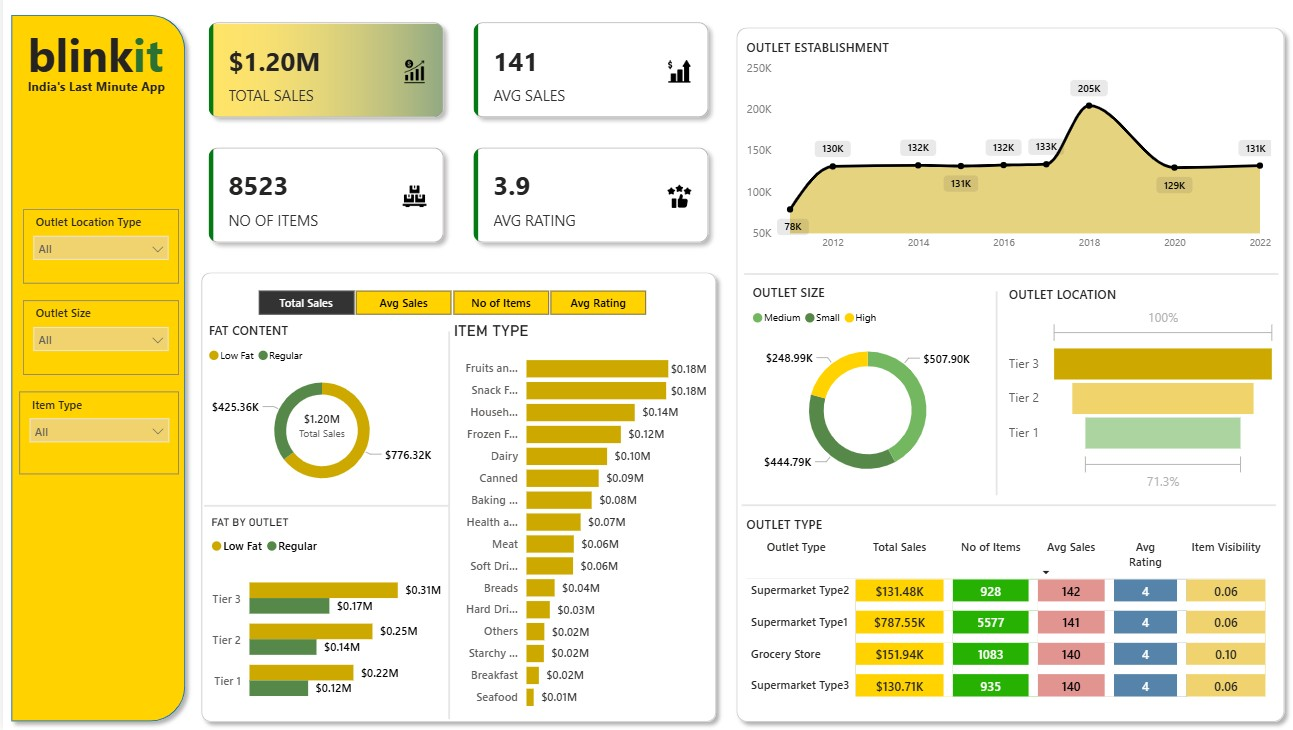

The page's visual inventory and layout, read from the dashboard file:
{"tool":"powerbi","page":{"name":"Page 1","canvas":[1400,800],"ordinal":0},"visuals":[{"type":"shape","box":[0,24.3,204.3,775.7],"z":0},{"type":"textbox","box":[21.4,37.1,171.4,75.7],"z":1000},{"type":"textbox","box":[21.4,95.7,182.9,32.9],"z":2000},{"type":"cardVisual","fields":{"Data":["BlinkIT Grocery Data.Total Sales","BlinkIT Grocery Data.Avg Sales","BlinkIT Grocery Data.No of Items","BlinkIT Grocery Data.Avg Rating"]},"box":[204.3,24.3,570,270],"z":3000},{"type":"shape","box":[204.3,300,570,500],"z":4000},{"type":"donutChart","title":"FAT CONTENT","fields":{"Y":["BlinkIT Grocery Data.Total Sales"],"Category":["BlinkIT Grocery Data.Item Fat Content"]},"box":[215.7,361.4,252.9,188.6],"z":5000},{"type":"slicer","fields":{"Values":["Matrics.Matrics"]},"box":[248.6,321.4,465.7,40],"z":6000},{"type":"cardVisual","fields":{"Data":["BlinkIT Grocery Data.Total Sales"]},"box":[260,412.9,164.3,121.4],"z":7000},{"type":"clusteredBarChart","title":"FAT BY OUTLET","fields":{"Y":["BlinkIT Grocery Data.Total Sales"],"Category":["BlinkIT Grocery Data.Outlet Location Type"],"Series":["BlinkIT Grocery Data.Item Fat Content"]},"box":[218.6,570,257.1,218.6],"z":8000},{"type":"shape","box":[215.7,550,262.9,20],"z":9000},{"type":"shape","box":[468.6,372.9,18.6,415.7],"z":10000},{"type":"clusteredBarChart","title":"ITEM TYPE","fields":{"Y":["BlinkIT Grocery Data.Total Sales"],"Category":["BlinkIT Grocery Data.Item Type"]},"box":[478.6,361.4,281.4,427.1],"z":11000},{"type":"shape","box":[777.1,37.1,605.7,762.9],"z":12000},{"type":"lineChart","title":"OUTLET ESTABLISHMENT","fields":{"Y":["Sum(BlinkIT Grocery Data.Sales)"],"Category":["BlinkIT Grocery Data.Outlet Establishment Year"]},"box":[792.9,58.6,572.9,235.7],"z":13000},{"type":"shape","box":[794.3,300,572.9,21.4],"z":14000},{"type":"donutChart","title":"OUTLET SIZE","fields":{"Y":["BlinkIT Grocery Data.Total Sales"],"Category":["BlinkIT Grocery Data.Outlet Size"]},"box":[798.6,321.4,257.1,225.7],"z":15000},{"type":"funnel","title":"OUTLET LOCATION","fields":{"Category":["BlinkIT Grocery Data.Outlet Location Type"],"Y":["Sum(BlinkIT Grocery Data.Sales)"]},"box":[1074.3,323.7,297.1,225.7],"z":16000},{"type":"shape","box":[792.9,548.6,572.9,21.4],"z":17000},{"type":"shape","box":[1055.7,330,18.6,218.6],"z":18000},{"type":"pivotTable","title":"OUTLET TYPE","fields":{"Rows":["BlinkIT Grocery Data.Outlet Type"],"Values":["BlinkIT Grocery Data.Total Sales","BlinkIT Grocery Data.No of Items","BlinkIT Grocery Data.Avg Sales","BlinkIT Grocery Data.Avg Rating","Avg(BlinkIT Grocery Data.Item Visibility)"]},"box":[792.9,570,572.9,204.3],"z":19000},{"type":"slicer","fields":{"Values":["BlinkIT Grocery Data.Outlet Size"]},"box":[21.4,338.6,167.1,80],"z":20000},{"type":"slicer","fields":{"Values":["BlinkIT Grocery Data.Outlet Location Type"]},"box":[21.4,241.4,167.1,80],"z":21000},{"type":"slicer","fields":{"Values":["BlinkIT Grocery Data.Item Type"]},"box":[17.1,437.1,171.4,88.6],"z":22000}]}

Visuals, with their boxes in screenshot pixels (x1, y1, x2, y2), scaled from the page's 1400x800 canvas onto the 1293x730 screenshot:
shape: Rect(0, 22, 189, 729)
textbox: Rect(20, 34, 178, 103)
textbox: Rect(20, 87, 189, 117)
cardVisual - BlinkIT Grocery Data.Total Sales x BlinkIT Grocery Data.Avg Sales: Rect(189, 22, 715, 269)
shape: Rect(189, 274, 715, 729)
"FAT CONTENT" donutChart: Rect(199, 330, 433, 502)
slicer - Matrics.Matrics: Rect(230, 293, 660, 330)
cardVisual - BlinkIT Grocery Data.Total Sales: Rect(240, 377, 392, 488)
"FAT BY OUTLET" clusteredBarChart: Rect(202, 520, 439, 720)
shape: Rect(199, 502, 442, 520)
shape: Rect(433, 340, 450, 720)
"ITEM TYPE" clusteredBarChart: Rect(442, 330, 702, 720)
shape: Rect(718, 34, 1277, 729)
"OUTLET ESTABLISHMENT" lineChart: Rect(732, 53, 1261, 269)
shape: Rect(734, 274, 1263, 293)
"OUTLET SIZE" donutChart: Rect(738, 293, 975, 499)
"OUTLET LOCATION" funnel: Rect(992, 295, 1267, 501)
shape: Rect(732, 501, 1261, 520)
shape: Rect(975, 301, 992, 501)
"OUTLET TYPE" pivotTable: Rect(732, 520, 1261, 707)
slicer - BlinkIT Grocery Data.Outlet Size: Rect(20, 309, 174, 382)
slicer - BlinkIT Grocery Data.Outlet Location Type: Rect(20, 220, 174, 293)
slicer - BlinkIT Grocery Data.Item Type: Rect(16, 399, 174, 480)
